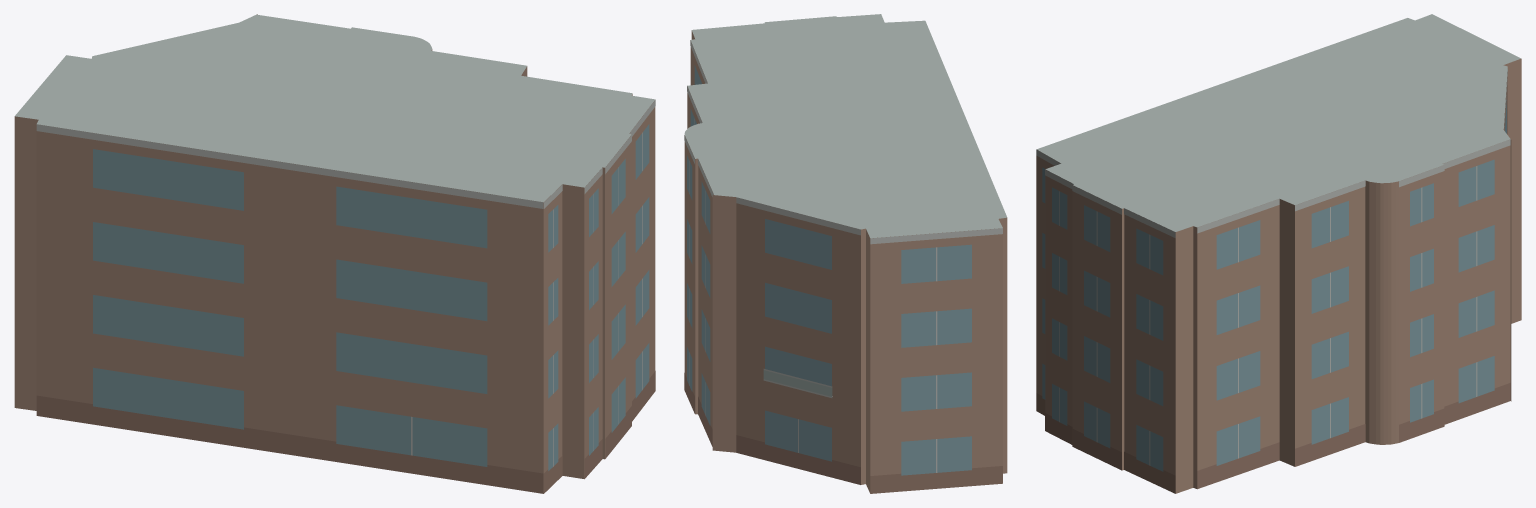
The model's file is survey-upis-32771089.glb.
3 renders of one model, left to right at view 1: azimuth 30°, elevation 25°; view 2: azimuth 150°, elevation 25°; view 3: azimuth 270°, elevation 25°, orthographic. The views are drawn at different scales.
Visible parts, largest first — view 1: survey-upis-32771089.tmp; view 2: survey-upis-32771089.tmp; view 3: survey-upis-32771089.tmp.
Boxes of the visible parts, bbox=[...] form: survey-upis-32771089.tmp: bbox=[14, 14, 655, 493]; survey-upis-32771089.tmp: bbox=[684, 14, 1007, 493]; survey-upis-32771089.tmp: bbox=[1036, 14, 1521, 493].
Size of the model in its own units: 18.6 by 10.4 by 17.48.
